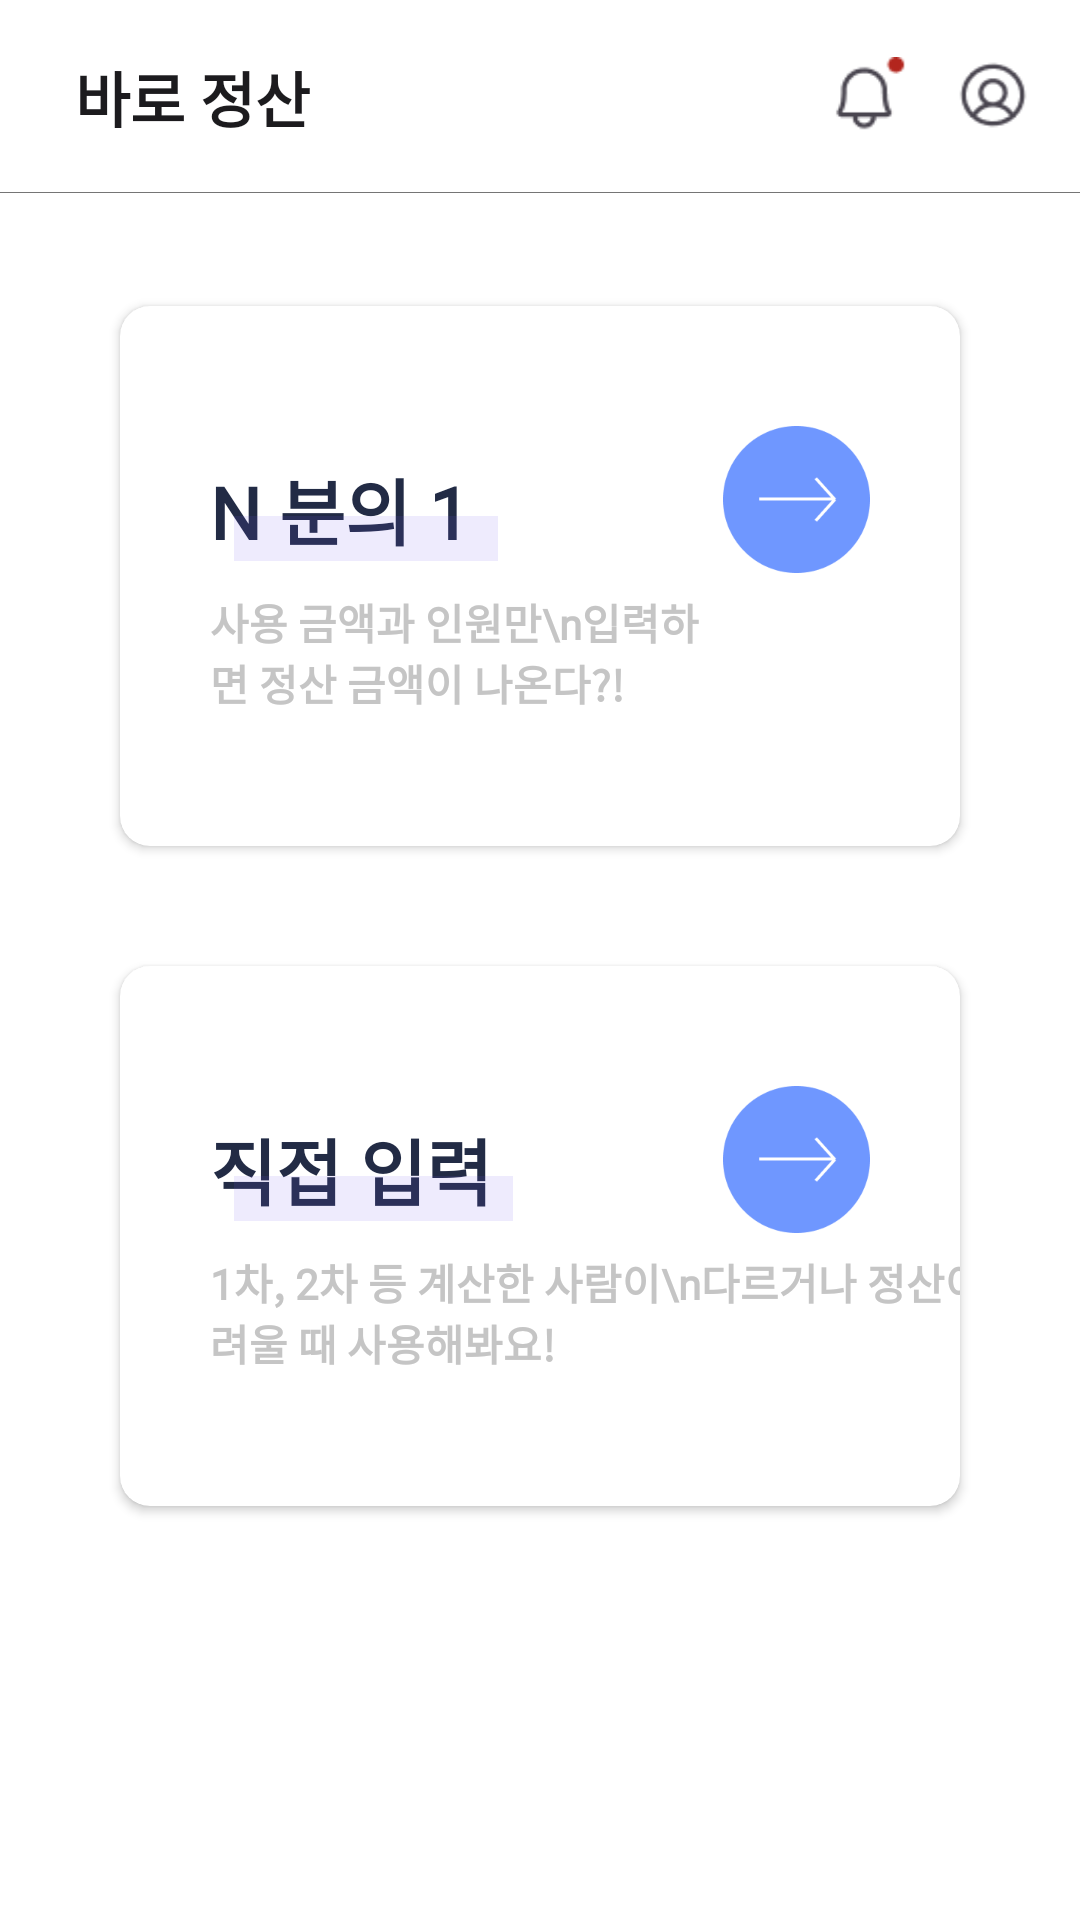

Locate icon controls on the screen. Image size 1080*1920, boxes as (x1, y1, x2, y2).
bell: (836, 57, 905, 129)
